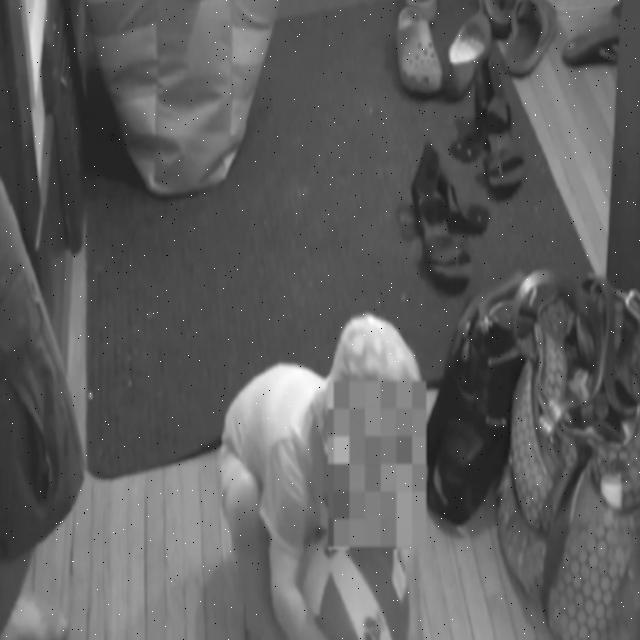child: (219, 324, 417, 640)
